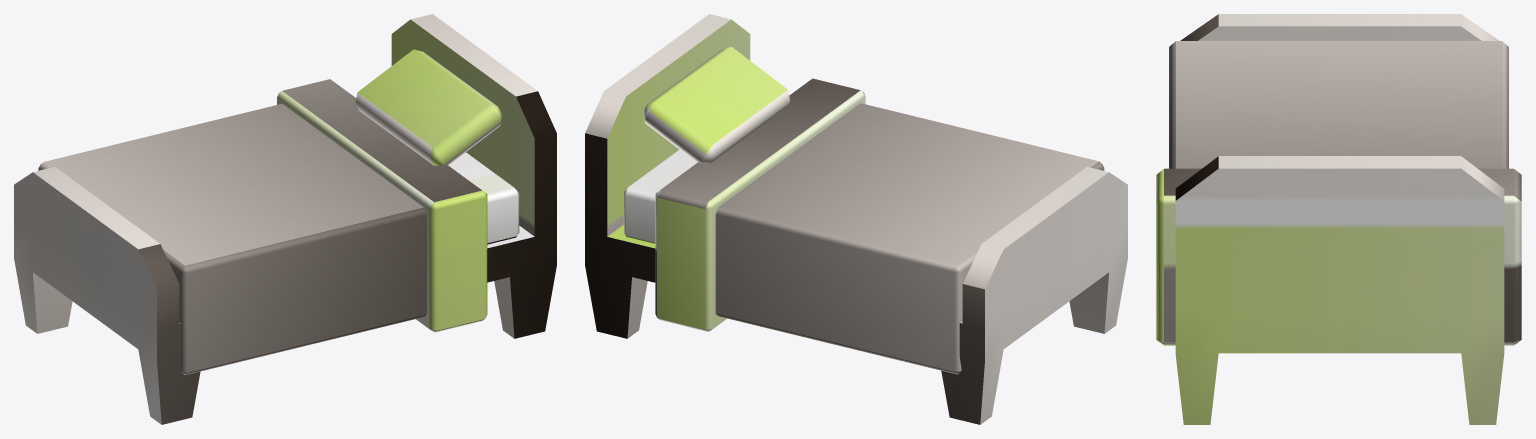
The model's file is BedBurned.fbx.
3 renders of one model, left to right at view 1: azimuth 30°, elevation 25°; view 2: azimuth 150°, elevation 25°; view 3: azimuth 270°, elevation 25°, orthographic. The views are drawn at different scales.
Visible parts, largest first — view 1: BedBurned; view 2: BedBurned; view 3: BedBurned.
Boxes of the visible parts, x1,y1,x2,y2 form: BedBurned: [14, 14, 556, 424]; BedBurned: [585, 14, 1127, 424]; BedBurned: [1156, 14, 1521, 424].
Size of the model in its own units: 12.17 by 6.61 by 8.38.
1 material, 1 textured.
